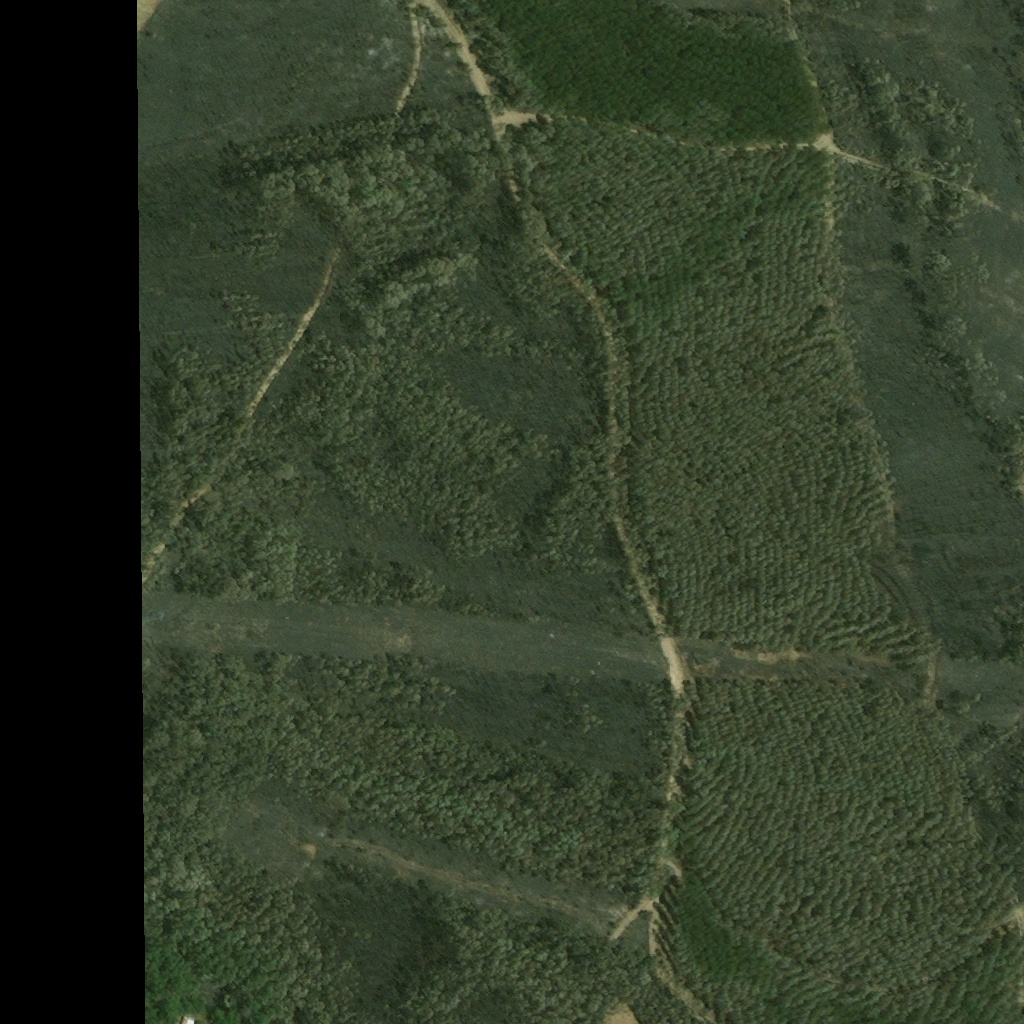0 no-damage: (181, 1014, 196, 1023)
